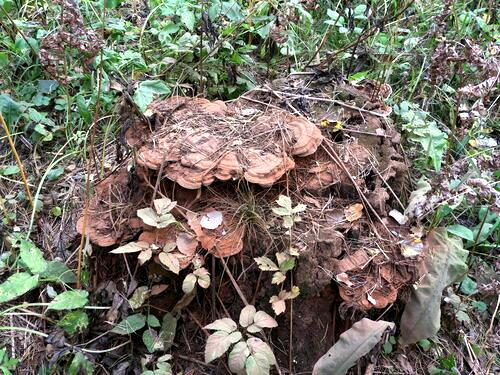Ganoderma - Fruit Body: (125, 88, 329, 193), (77, 192, 260, 265), (354, 77, 401, 121)
